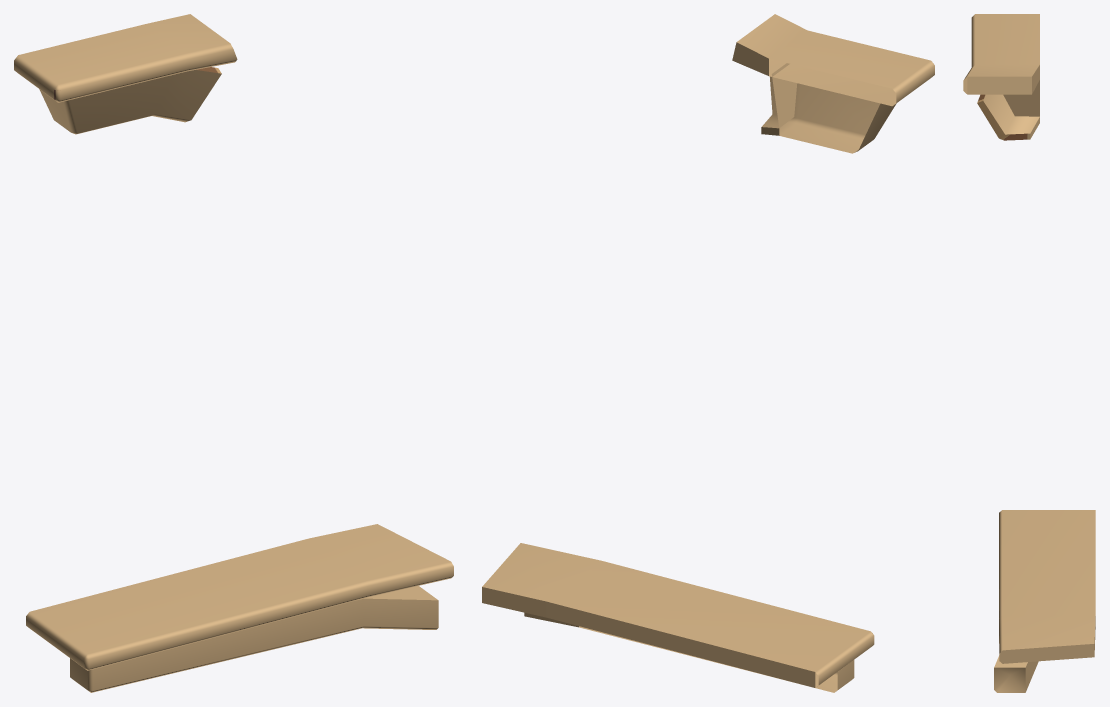
Rendered from DBK_WinSmall_Trim_E_Side.fbx.
3 views of the same model, side by side, from view 1: azimuth 30°, elevation 25°; view 2: azimuth 150°, elevation 25°; view 3: azimuth 270°, elevation 25° (orthographic). The views are drawn at different scales.
Visible parts, largest first — view 1: DBK_WinSmall_Trim_E_Side; view 2: DBK_WinSmall_Trim_E_Side; view 3: DBK_WinSmall_Trim_E_Side.
Boxes of the visible parts, box(x1,y1,x2,y2) form: DBK_WinSmall_Trim_E_Side: box(14, 14, 453, 692); DBK_WinSmall_Trim_E_Side: box(482, 14, 934, 692); DBK_WinSmall_Trim_E_Side: box(963, 14, 1095, 692).
Size of the model in its own units: 106 by 160 by 36.3.
